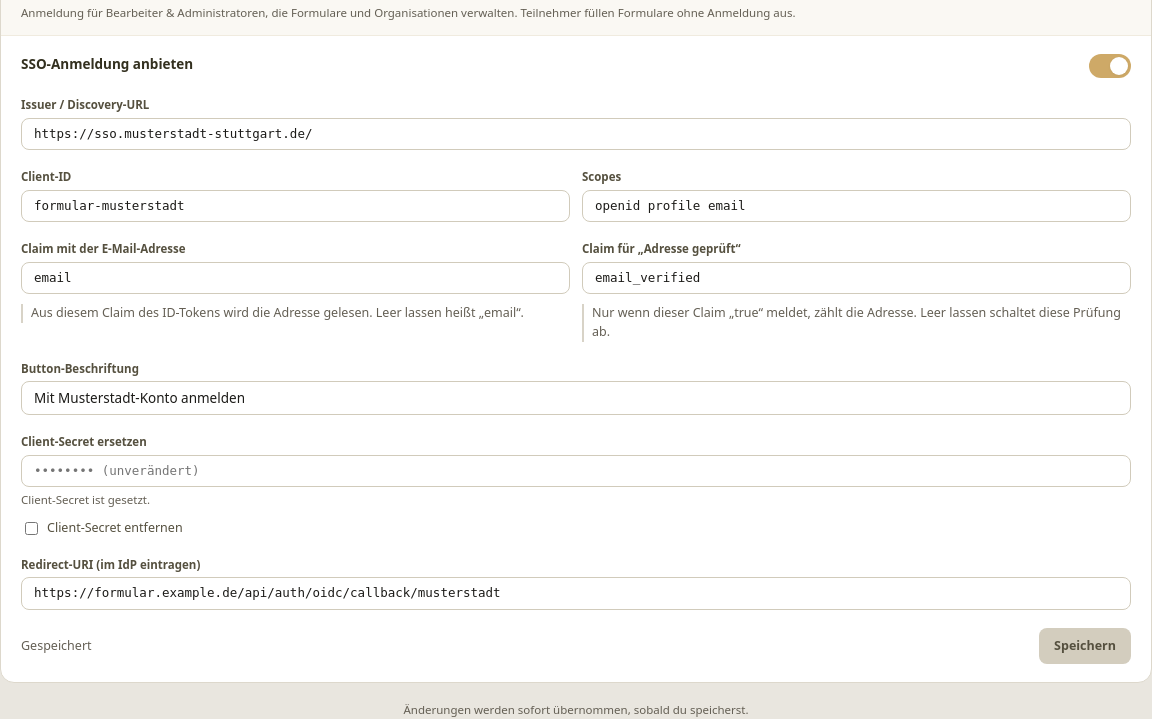
it: Erscheinungsbild & Login › the OIDC block › marks the secret for removal without touching the replace field
The image size is (1152, 719).
(page scrolled)
Expected: the text "Client-Secret ist gesetzt." is shown, [21,492,150,507]
Click the checkbox labelled "Client-Secret entfernen" at (32, 528), box [25,522,38,535]
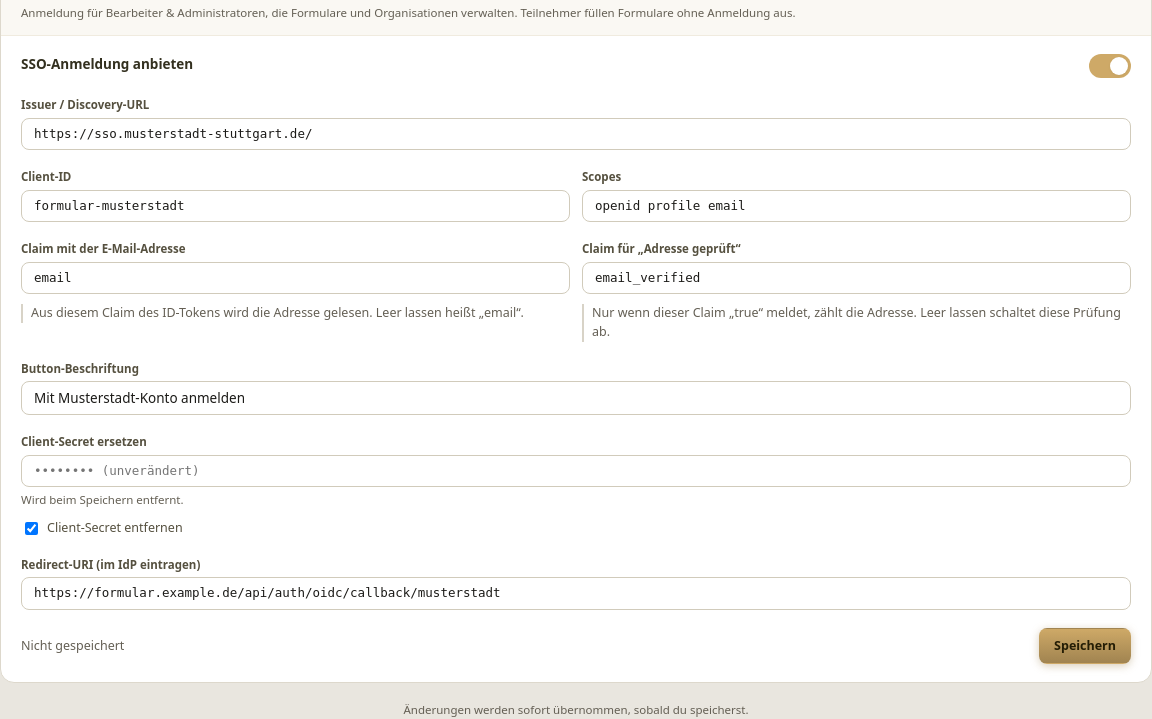
Expected: the password field labelled "Client-Secret ersetzen" is disabled, [21,455,1131,487]
Expected: the text "Wird beim Speichern entfernt." is shown, [21,492,184,507]
